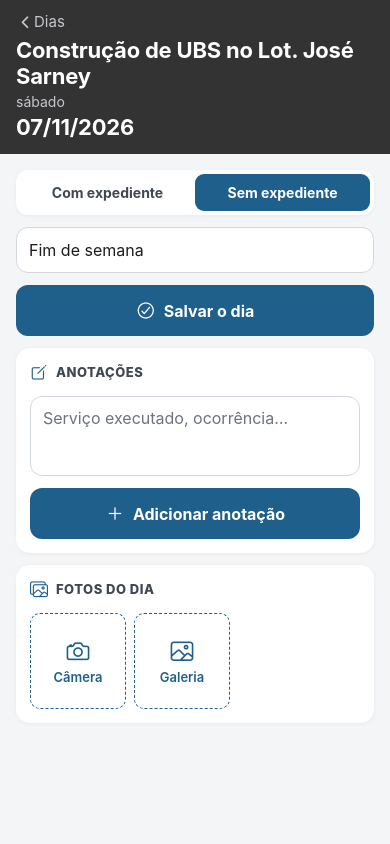
Test case: RegistroDiaTela — obras SEINFRA e fim de semana › encarregado pode desmarcar o padrão do sábado
Later steps or results of the test are not shown.
Click the element with test id "com-expediente": (108, 192) [52, 184, 163, 201]
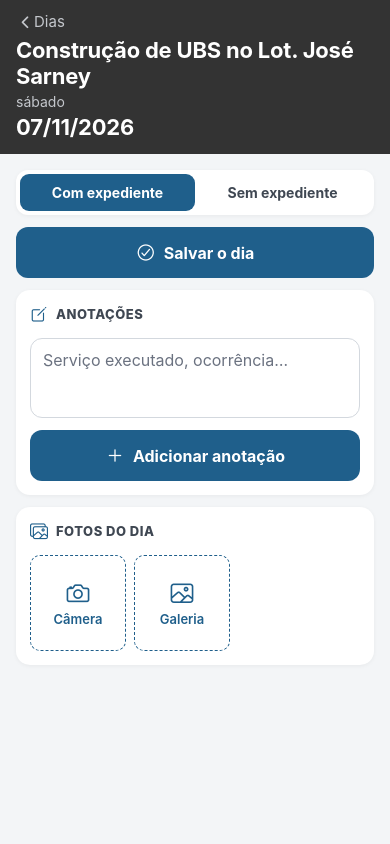
expect the field with test id "motivo" is gone: met
